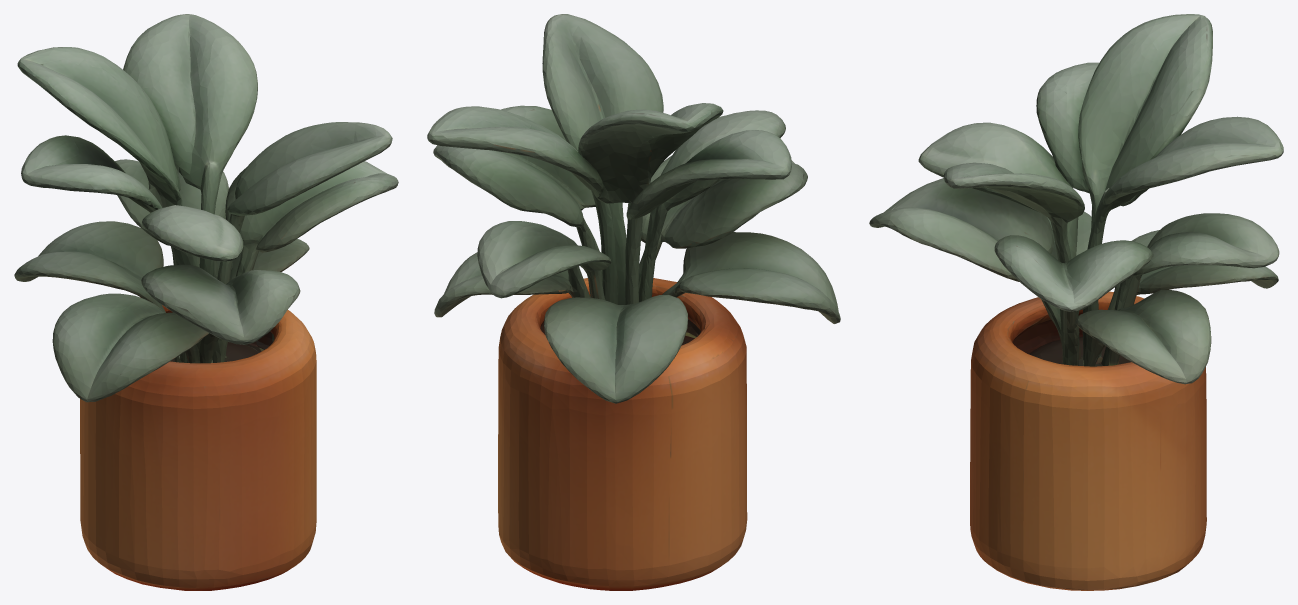
The model's file is plant.glb.
The picture shows the model from 3 angles, left to right: view 1: azimuth 30°, elevation 25°; view 2: azimuth 150°, elevation 25°; view 3: azimuth 270°, elevation 25°; orthographic projection. The views are drawn at different scales.
Visible parts, largest first — view 1: geometry_0; view 2: geometry_0; view 3: geometry_0.
Boxes of the visible parts, bbox=[...] form: geometry_0: bbox=[14, 14, 398, 590]; geometry_0: bbox=[427, 14, 840, 590]; geometry_0: bbox=[869, 14, 1283, 590].
Size of the model in its own units: 0.7759 by 0.9965 by 0.7848.
1 material, 1 textured.
